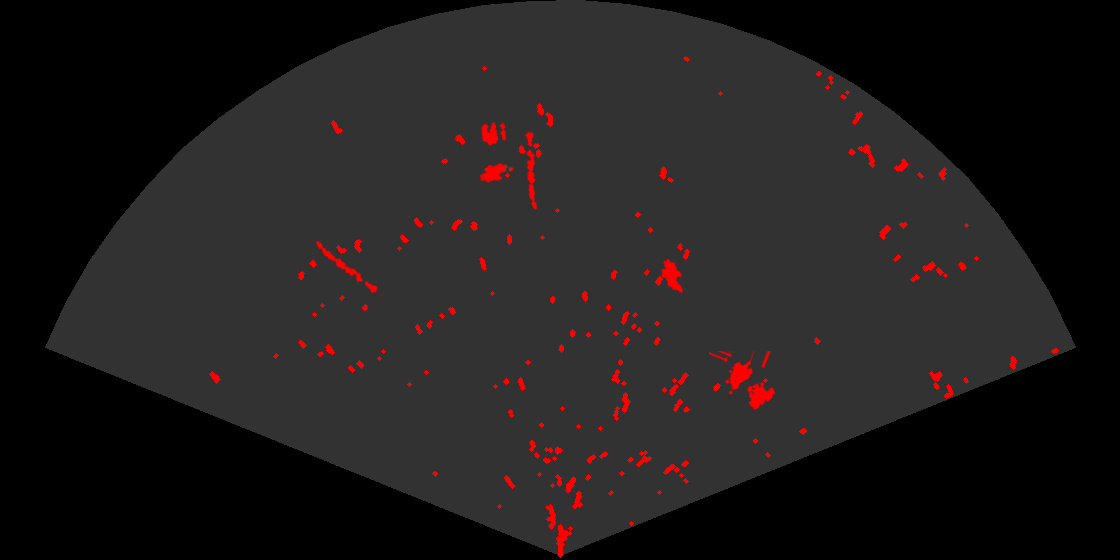AUV: (660, 257, 685, 295), (478, 161, 516, 184)
ball: (480, 120, 508, 147)
cage: (709, 351, 777, 411)
chain: (314, 239, 383, 299), (523, 131, 539, 211)
